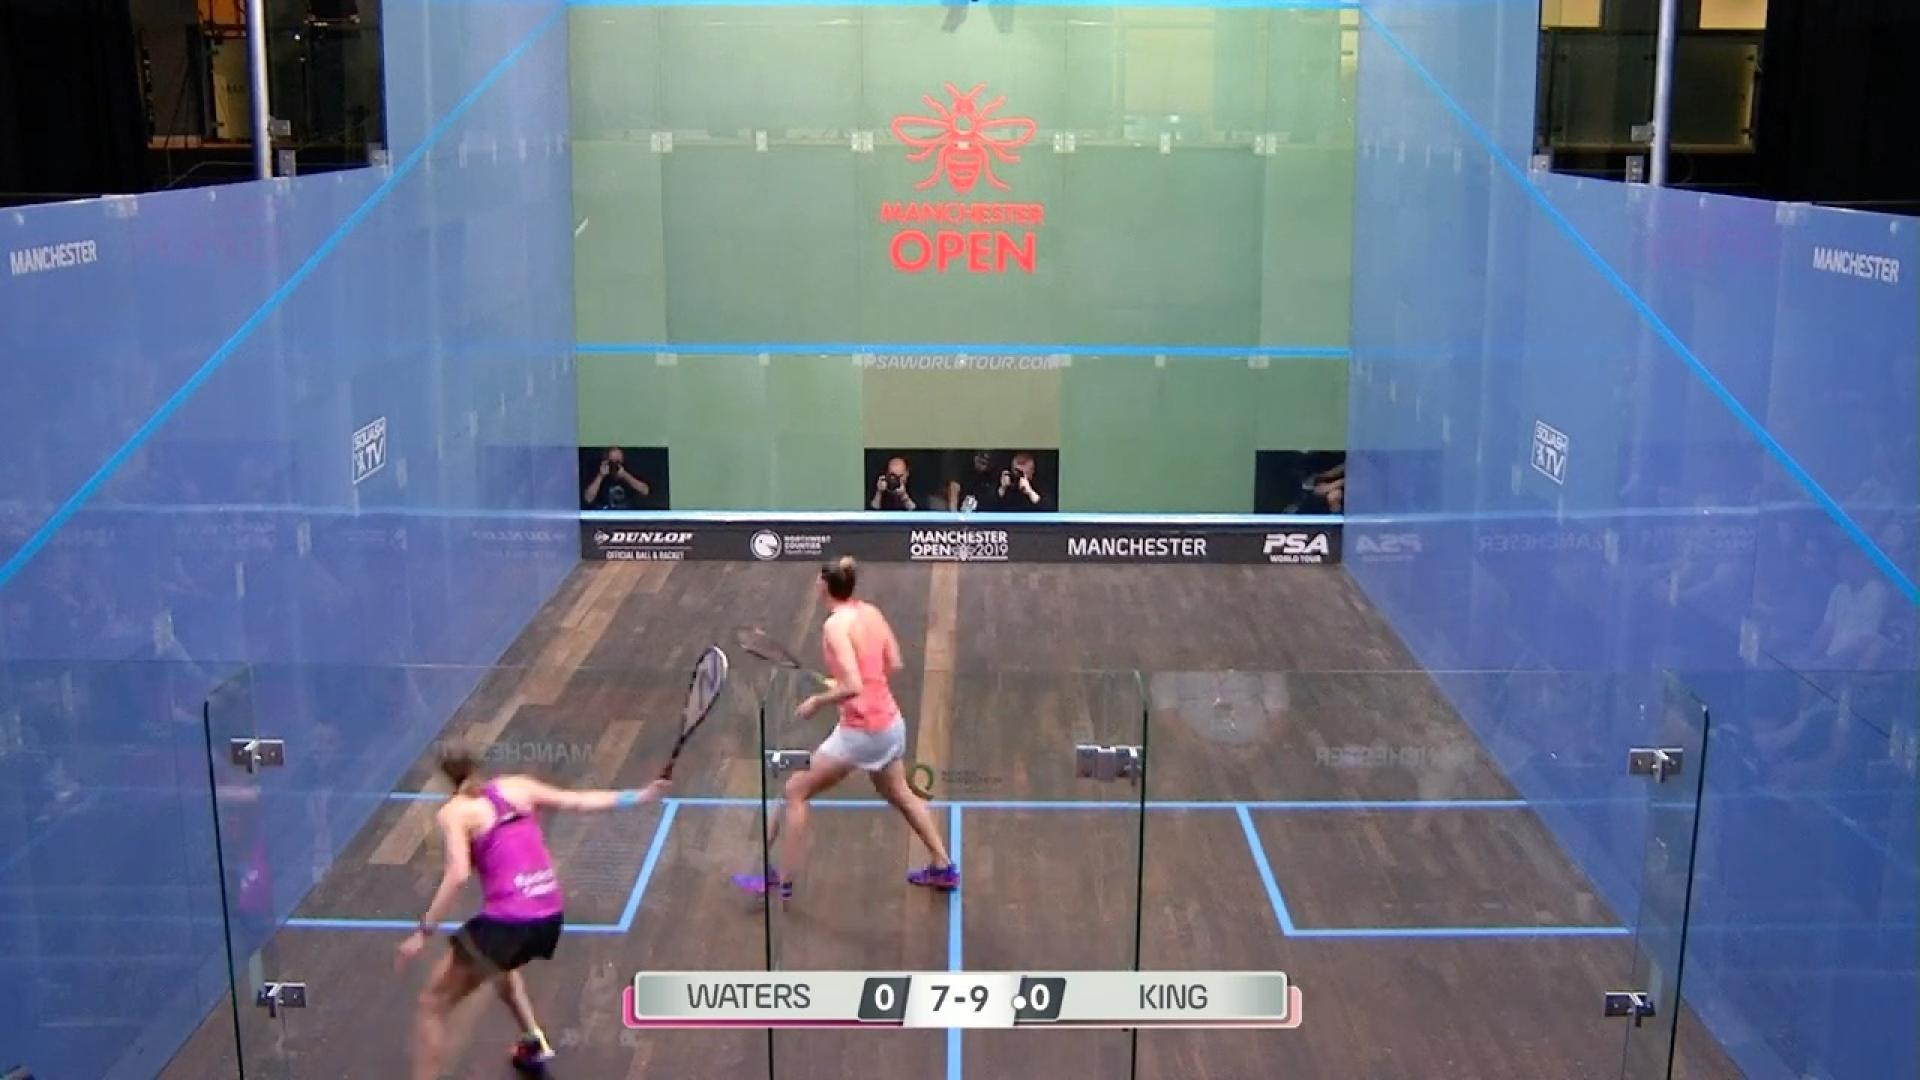Squash-Ball: (558, 200, 603, 262)
